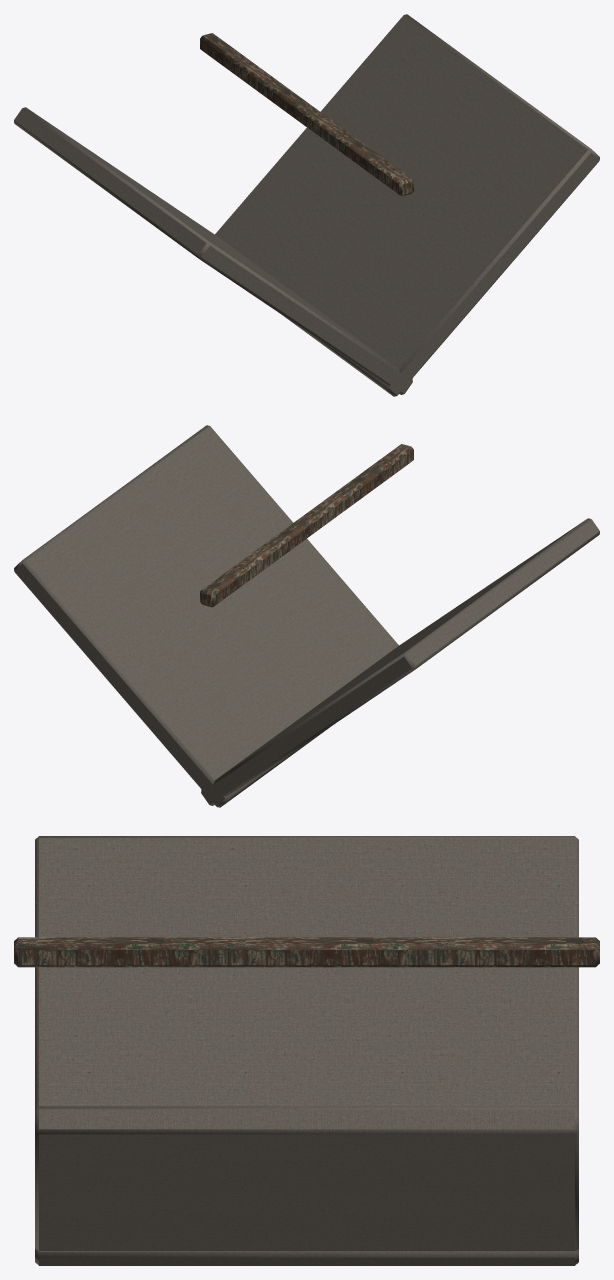
Rendered from prop_tent.glb.
3 renders of one model, top to bottom at view 1: azimuth 30°, elevation 25°; view 2: azimuth 150°, elevation 25°; view 3: azimuth 270°, elevation 25°, orthographic. The views are drawn at different scales.
Parts seen in each view (by area): view 1: PROP_Tent; view 2: PROP_Tent; view 3: PROP_Tent.
Part boxes in pixels (x1,y1,x2,y2): PROP_Tent: (14, 14, 599, 396); PROP_Tent: (14, 425, 599, 807); PROP_Tent: (14, 836, 599, 1265).
Bounding box in the file's own units: 3.22 × 1.69 × 2.8.
2 materials, 2 textured.
